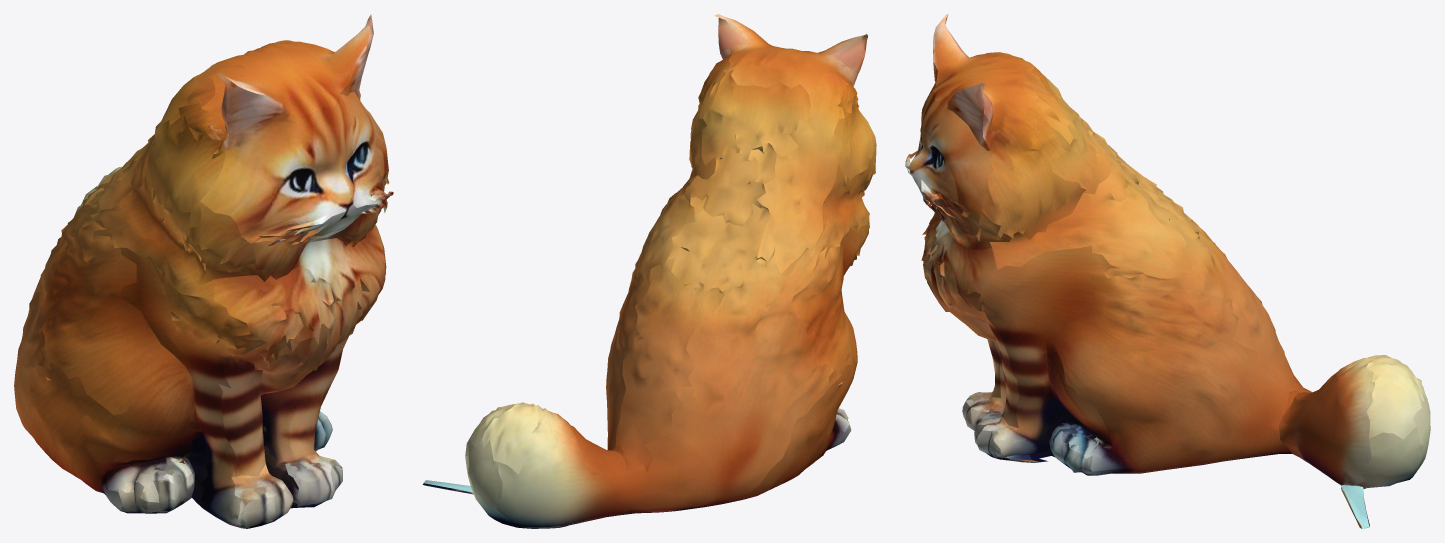
The model's file is cat.glb.
3 views of the same model, side by side, from view 1: azimuth 30°, elevation 25°; view 2: azimuth 150°, elevation 25°; view 3: azimuth 270°, elevation 25° (orthographic). The views are drawn at different scales.
Visible parts, largest first — view 1: cat; view 2: cat; view 3: cat.
Part boxes in pixels (x1,y1,x2,y2): cat: (14, 14, 393, 528); cat: (422, 14, 876, 528); cat: (905, 14, 1430, 528).
Size of the model in its own units: 0.7004 by 0.8172 by 1.
1 material, 1 textured.
